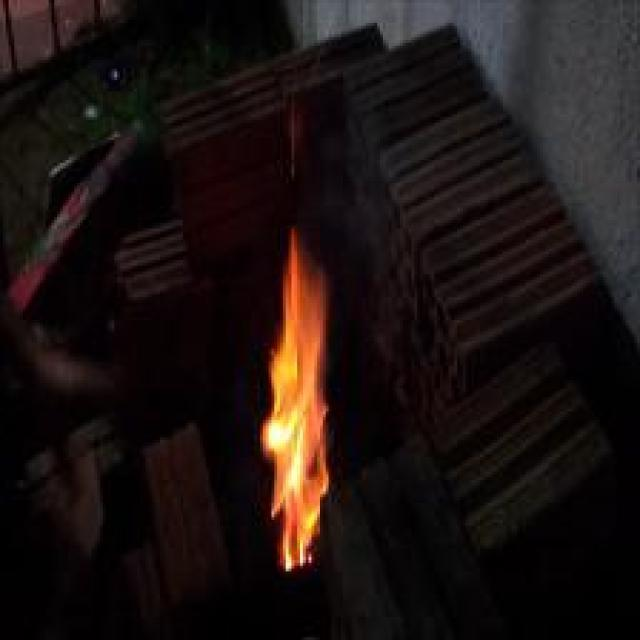smoke: (258, 235, 333, 574)
